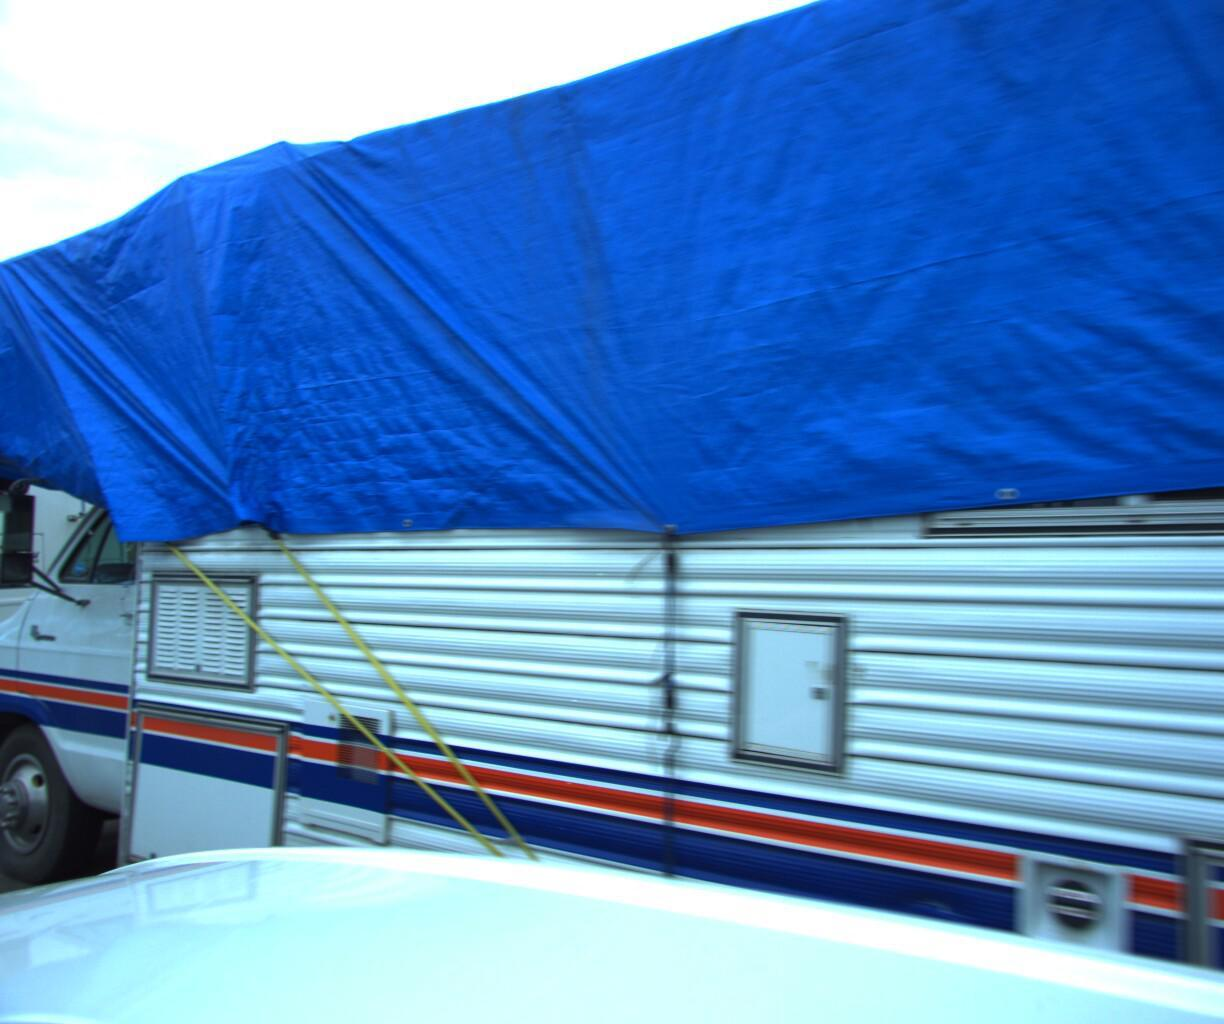other_vehicle: (0, 0, 1224, 1024), (0, 281, 166, 834)
